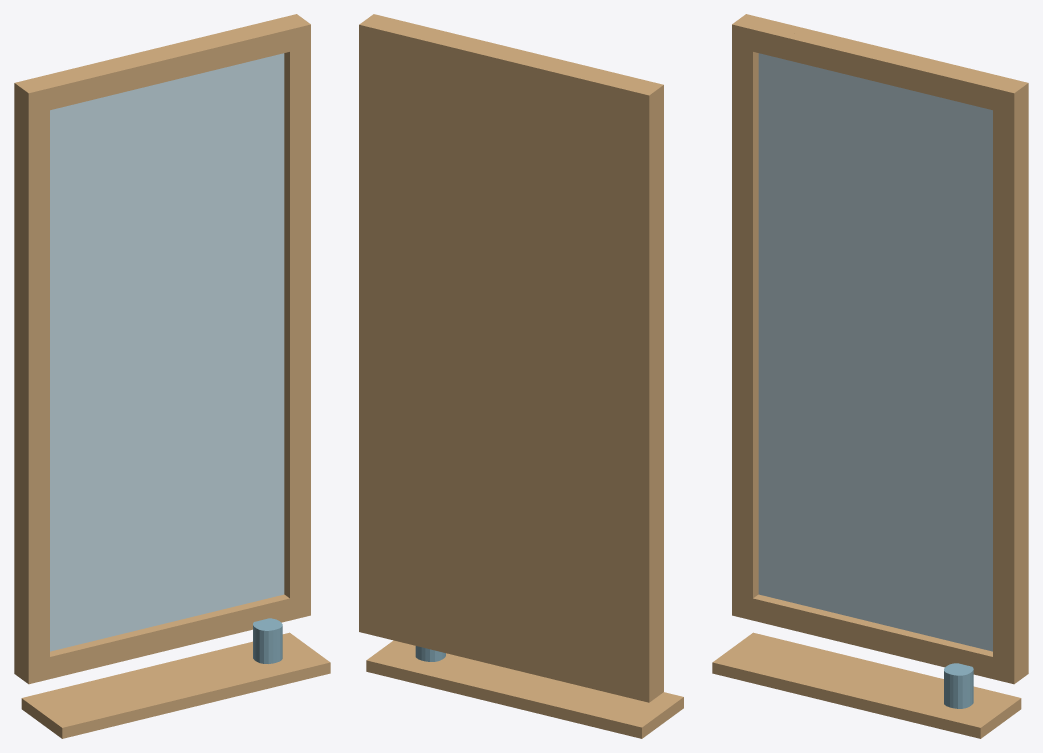
File: mirror.glb
The picture shows the model from 3 angles, left to right: view 1: azimuth 30°, elevation 25°; view 2: azimuth 150°, elevation 25°; view 3: azimuth 330°, elevation 25°; orthographic projection. The views are drawn at different scales.
Visible parts, largest first — view 1: mirror_Body; view 2: mirror_Body; view 3: mirror_Body.
Boxes of the visible parts, bbox=[...] form: mirror_Body: bbox=[14, 14, 330, 738]; mirror_Body: bbox=[359, 14, 683, 738]; mirror_Body: bbox=[712, 14, 1028, 738].
Bounding box in the file's own units: 0.8 × 1.7 × 0.2.
